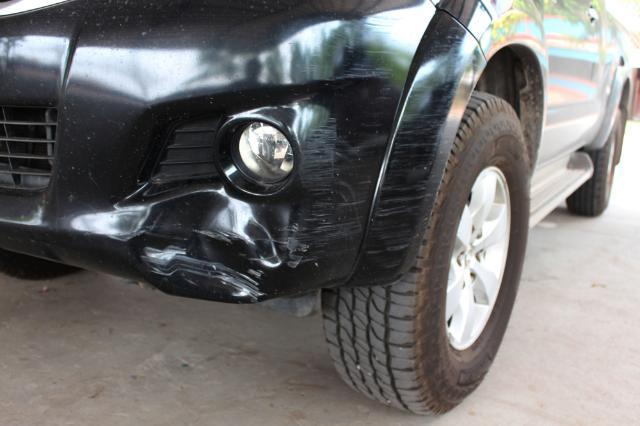dent: (132, 191, 288, 304)
rub: (282, 8, 484, 275)
